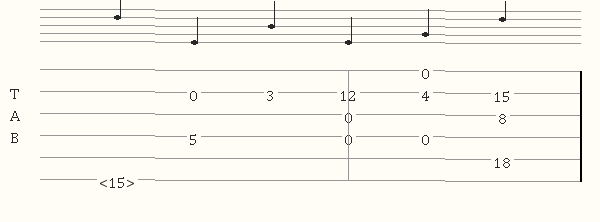0: (189, 85, 202, 99), (344, 107, 357, 121), (344, 129, 357, 143), (421, 129, 434, 143), (421, 63, 434, 77)
12: (339, 85, 361, 99)
15: (493, 85, 515, 100)
18: (493, 151, 515, 165)
3: (266, 85, 279, 99)
4: (421, 85, 434, 99)
5: (189, 129, 202, 144)
8: (498, 107, 511, 121)
harmonic: (99, 173, 139, 188)
